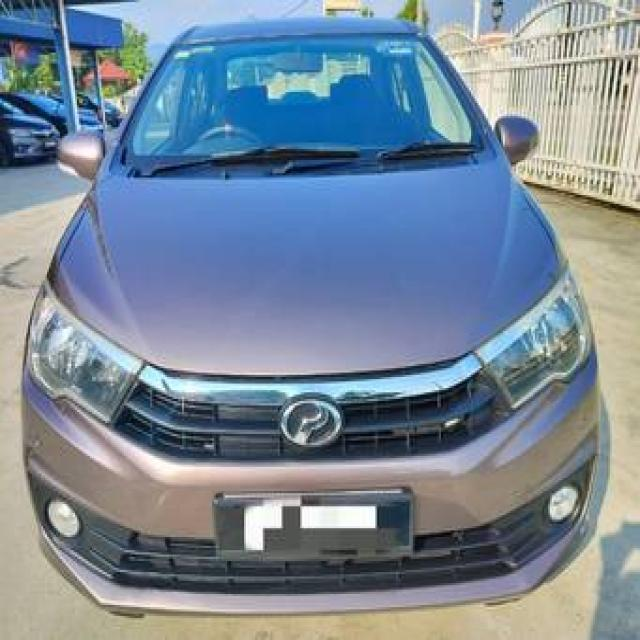PeroduaBezza: (19, 12, 607, 616)
